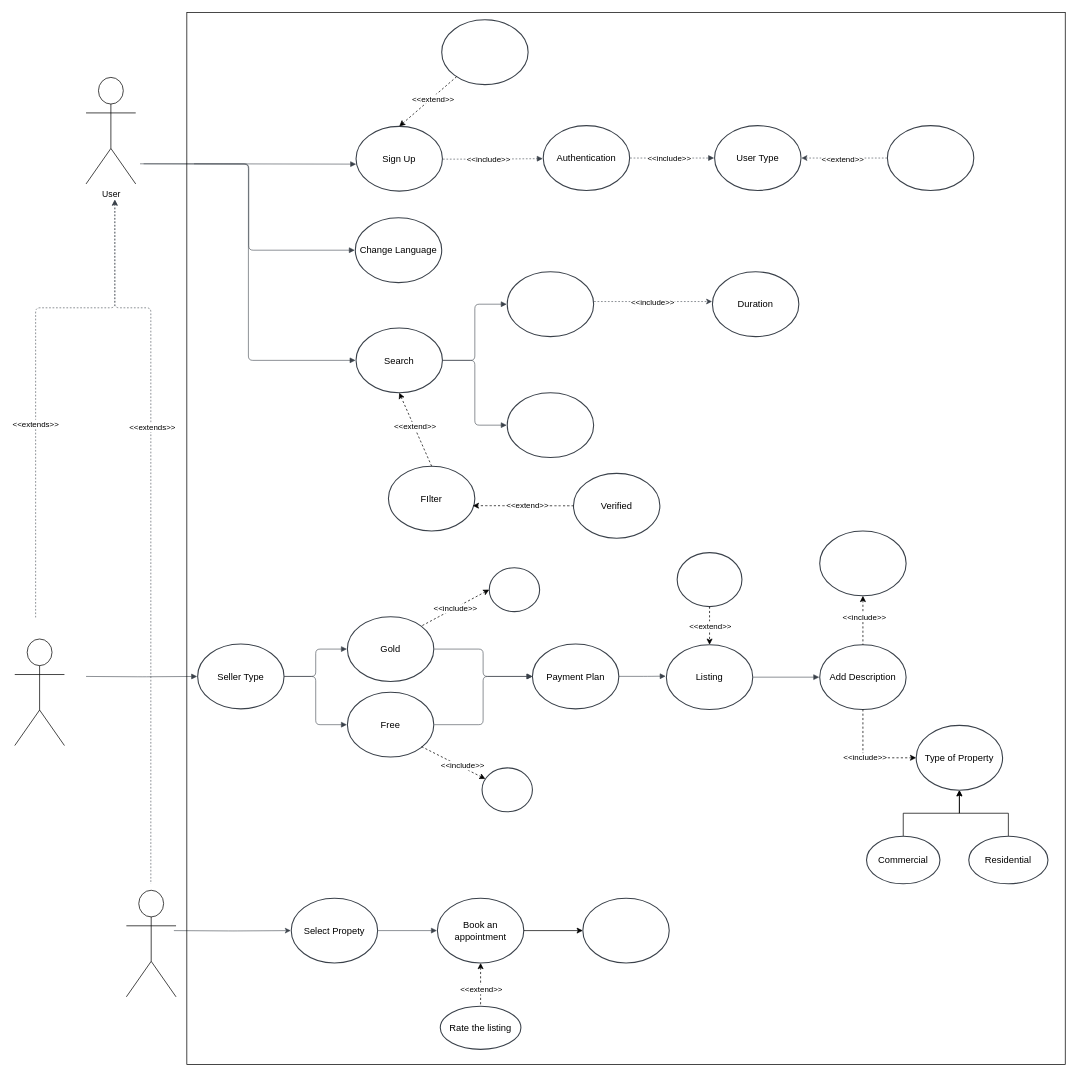
Some shapes in this 1078 by 1077 pixel diagram are drawn without their labels. Each missing label, with the box of its shape:
Add photo: (819, 530, 906, 596)
Buyer: (126, 890, 176, 997)
Enhance Profile: (441, 19, 528, 85)
For Buy: (506, 392, 594, 458)
For Rent: (506, 271, 594, 337)
Infinite Listing: (488, 567, 540, 612)
Limited Listing: (481, 767, 533, 812)
Remove Listing: (676, 552, 742, 607)
Seller: (14, 638, 64, 746)
Submit Documents: (582, 897, 669, 963)
Verification: (887, 125, 974, 191)
